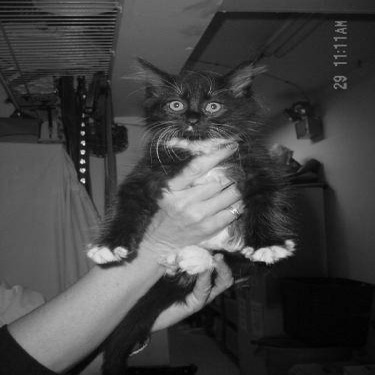cat: (82, 56, 295, 369)
